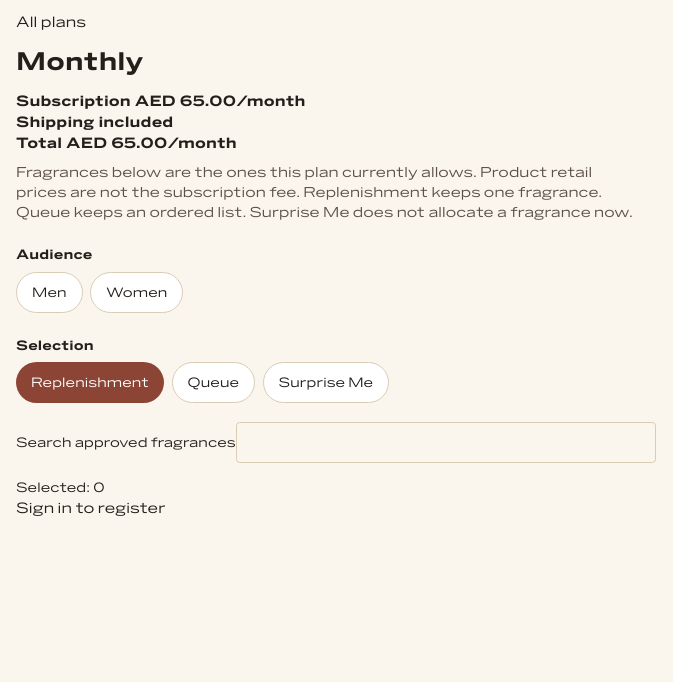
account subscriptions and registration gate › sends an unauthenticated customer to login
This screenshot has width=673, height=682.
What coordinates should you click on to do the following:
click the button "Men"
I would click on:
 (49, 292)
Its box is [16, 272, 83, 313].
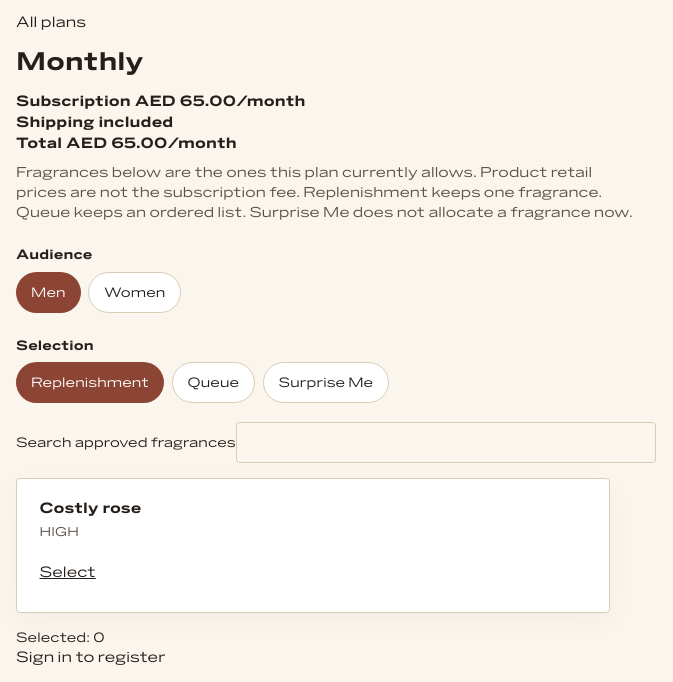
Now the text "Costly rose" is shown, box [40, 500, 141, 517]
